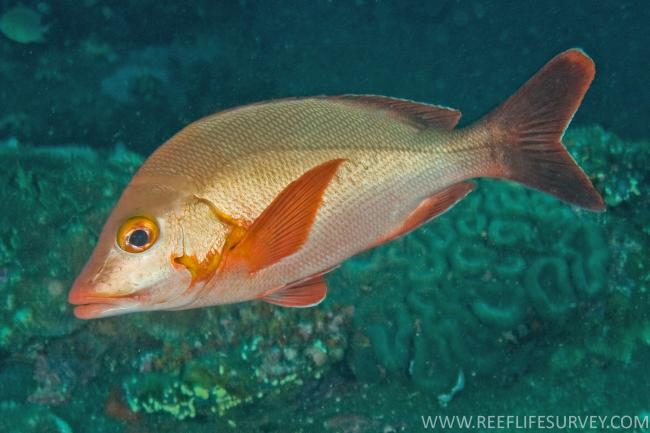fish: (66, 46, 605, 320)
